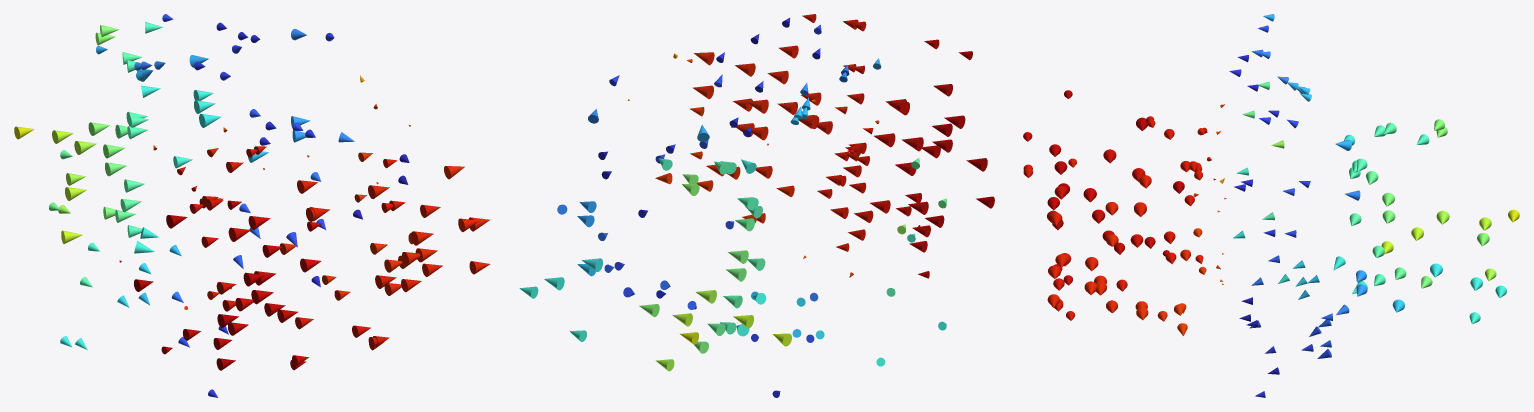
Rendered from LineasCorrienteH2-O2_mh2-5.58_V-0.9.glb.
3 views of the same model, side by side, from view 1: azimuth 30°, elevation 25°; view 2: azimuth 150°, elevation 25°; view 3: azimuth 270°, elevation 25° (orthographic). The views are drawn at different scales.
Size of the model in its own units: 0.00092 by 0.000962 by 0.00123.
2 materials, 2 textured.
